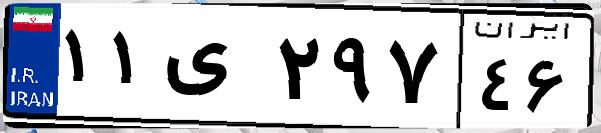1: (57, 26, 110, 100), (110, 28, 158, 98)
2: (270, 28, 330, 110)
4: (475, 38, 525, 113)
6: (525, 38, 570, 115)
7: (385, 28, 445, 110)
9: (330, 28, 385, 110)
ی: (158, 20, 270, 120)
